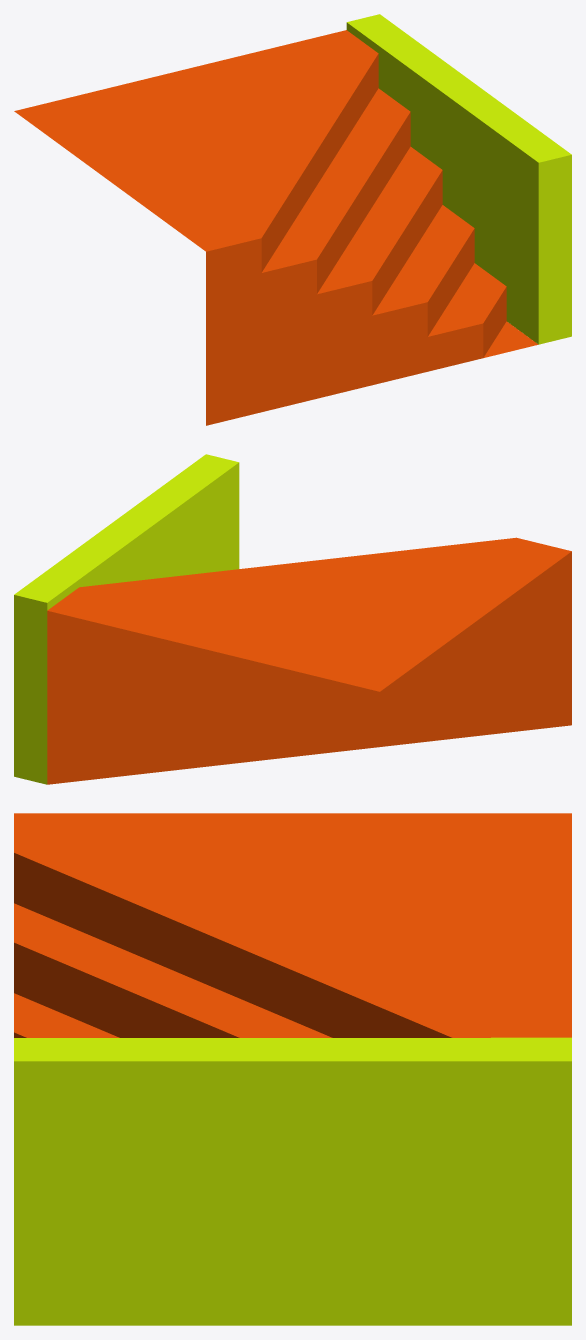
The picture shows the model from 3 angles, top to bottom: view 1: azimuth 30°, elevation 25°; view 2: azimuth 150°, elevation 25°; view 3: azimuth 270°, elevation 25°; orthographic projection. The views are drawn at different scales.
Parts seen in each view (by area): view 1: T_7_b_0; view 2: T_7_b_0; view 3: T_7_b_0.
Boxes of the visible parts, x1=… form: T_7_b_0: x1=14, y1=14, x2=571, y2=425; T_7_b_0: x1=14, y1=454, x2=571, y2=784; T_7_b_0: x1=14, y1=813, x2=571, y2=1325.
Bounding box in the file's own units: 110 × 52.14 × 99.81.
